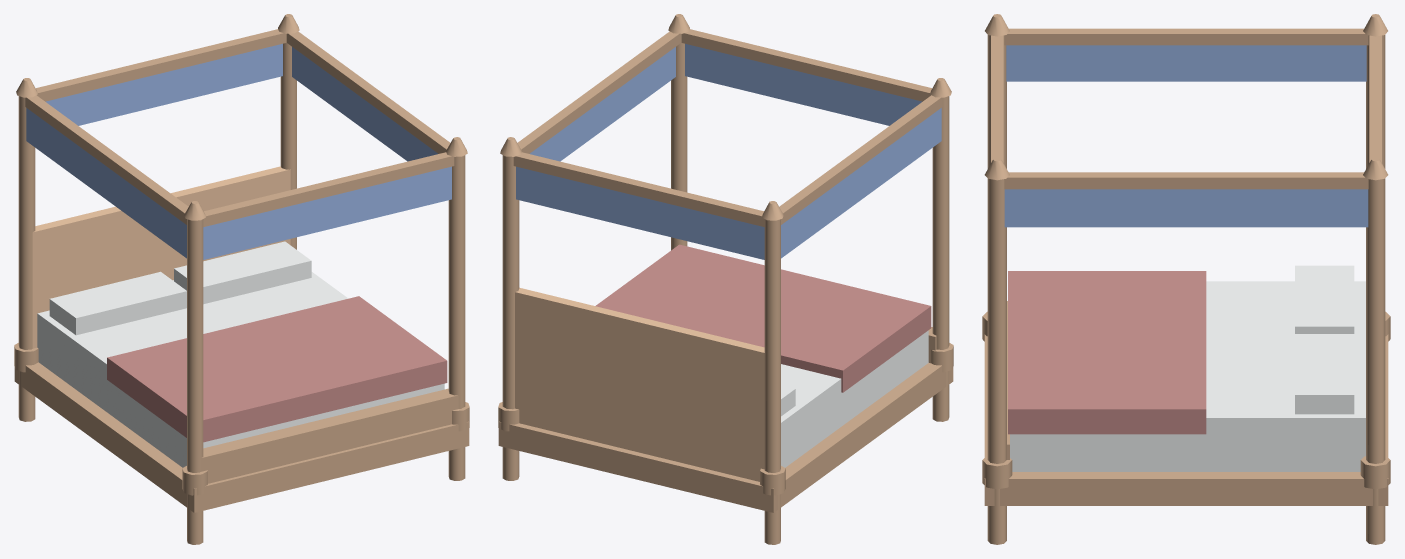
The model's file is bedFourPoster.glb.
The picture shows the model from 3 angles, left to right: view 1: azimuth 30°, elevation 25°; view 2: azimuth 150°, elevation 25°; view 3: azimuth 270°, elevation 25°; orthographic projection. The views are drawn at different scales.
Parts seen in each view (by area): view 1: bedFourPoster; view 2: bedFourPoster; view 3: bedFourPoster.
Boxes of the visible parts, bbox=[...] form: bedFourPoster: bbox=[14, 14, 469, 544]; bedFourPoster: bbox=[498, 14, 953, 544]; bedFourPoster: bbox=[982, 14, 1390, 544].
Bounding box in the file's own units: 0.87 × 0.99 × 0.96.
